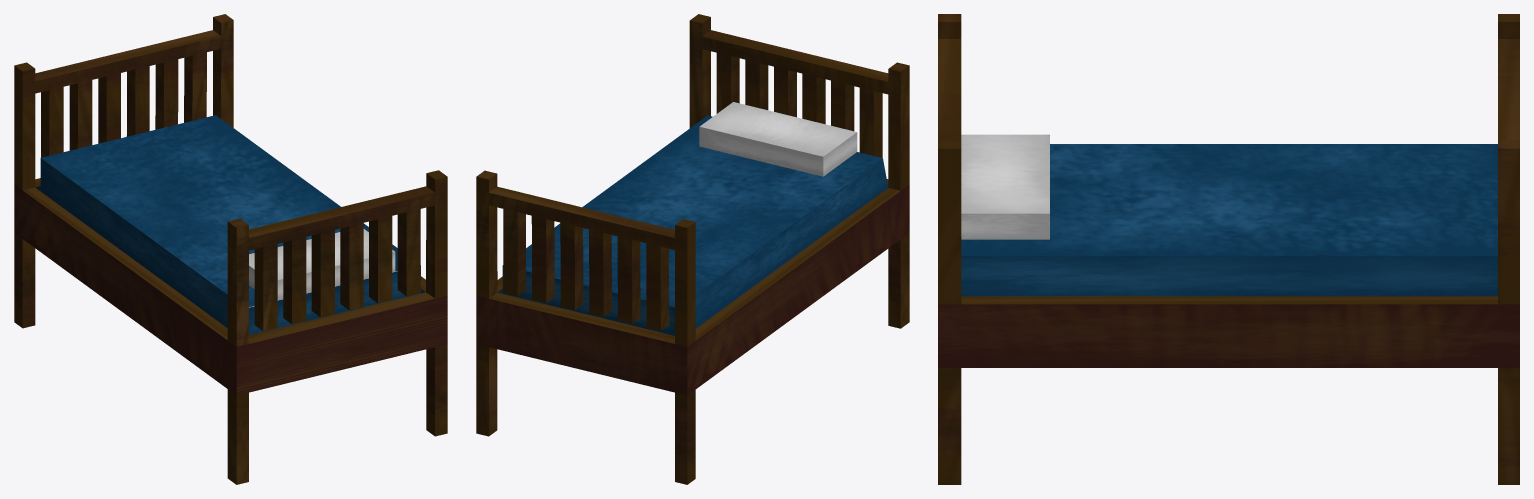
Rendered from Cama.fbx.
3 views of the same model, side by side, from view 1: azimuth 30°, elevation 25°; view 2: azimuth 150°, elevation 25°; view 3: azimuth 270°, elevation 25° (orthographic). The views are drawn at different scales.
Parts seen in each view (by area): view 1: Cube; view 2: Cube; view 3: Cube.
Part boxes in pixels (x1=…): Cube: x1=14, y1=14, x2=447, y2=484; Cube: x1=476, y1=14, x2=909, y2=484; Cube: x1=938, y1=14, x2=1519, y2=484.
Size of the model in its own units: 197 by 229 by 359.
